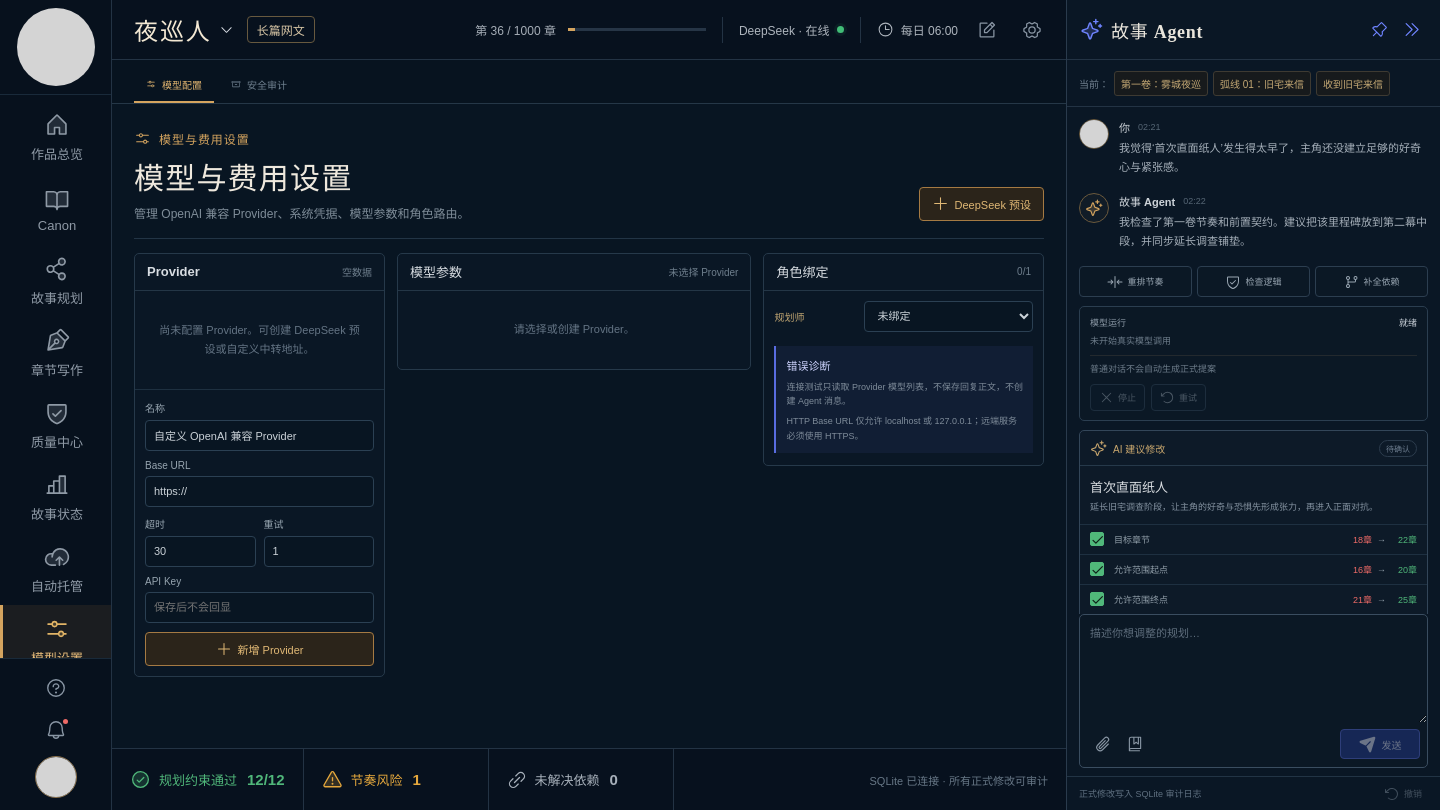
Scenario: Story Agent shell › opens model settings and clears key input after save
Expected: the heading "模型与费用设置" is shown, x1=134 y1=162 x2=352 y2=195
Replace the text in the field named "新增 Provider 名称" with "测试 Provider" at x=260, y=435, box x1=145 y1=420 x2=374 y2=450
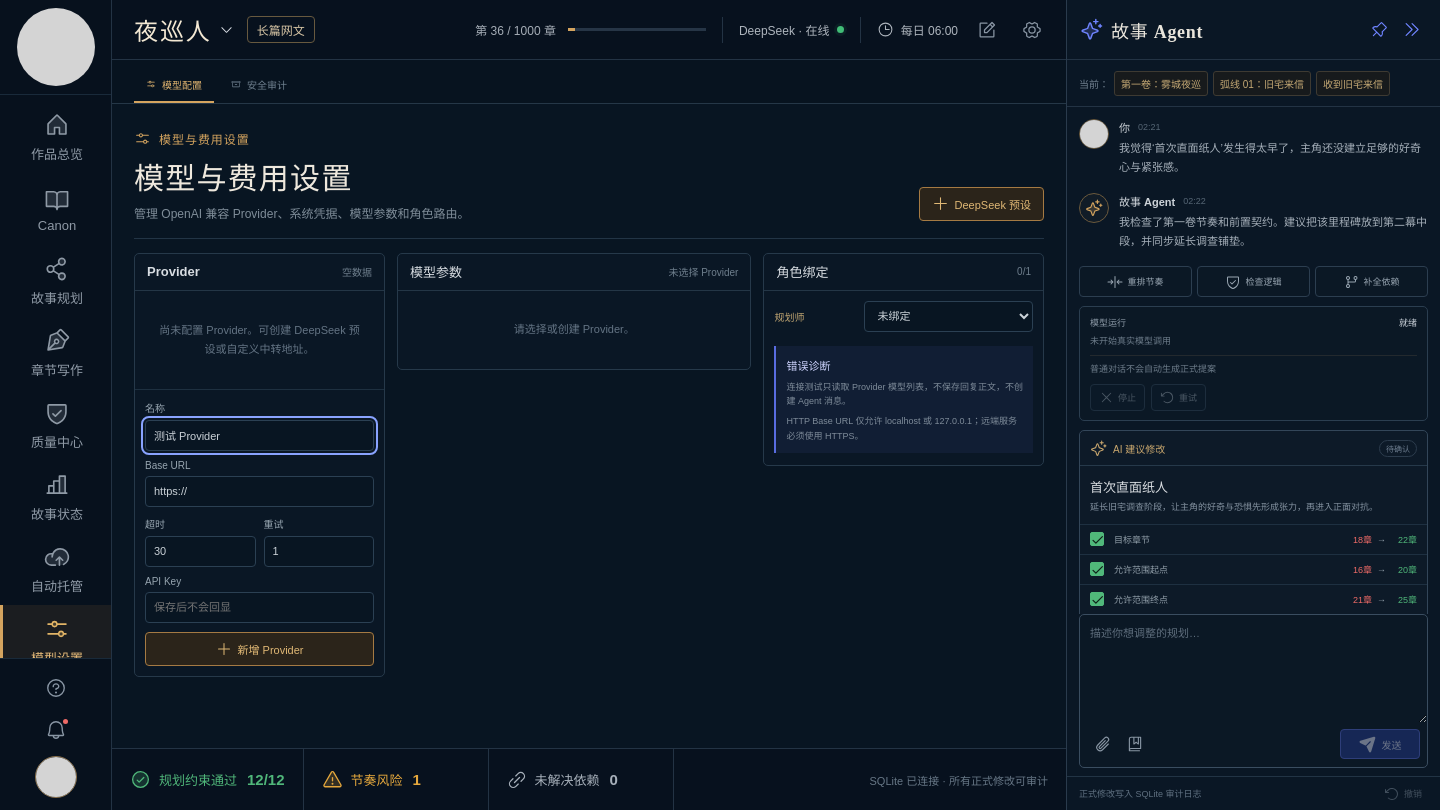
Replace the text in the field named "新增 Provider Base URL" with "https://api.example.test" at x=260, y=491, box x1=145 y1=476 x2=374 y2=506
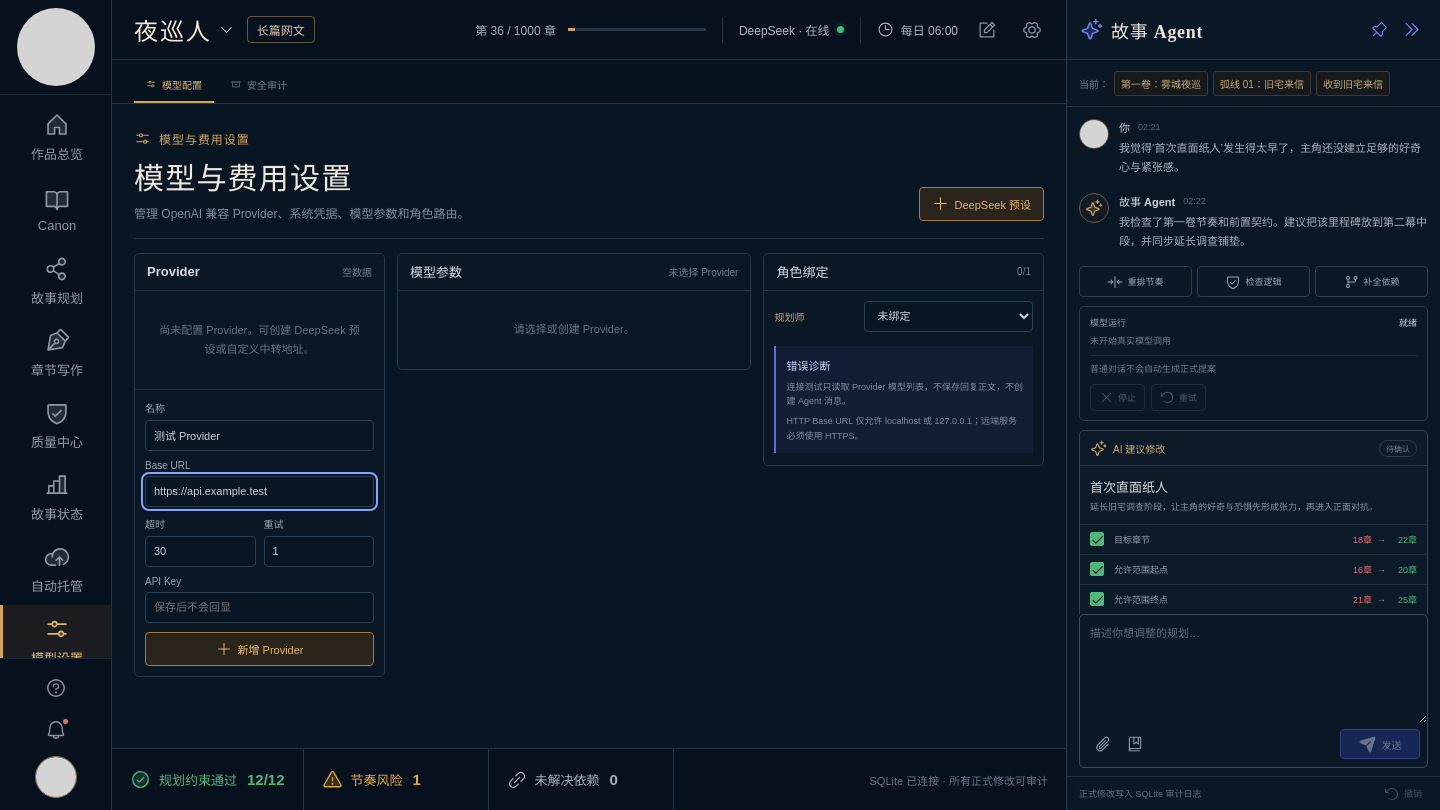
Type "unit-test-should-clear" into the password field named "新增 Provider API Key" at x=260, y=607, box x1=145 y1=592 x2=374 y2=622
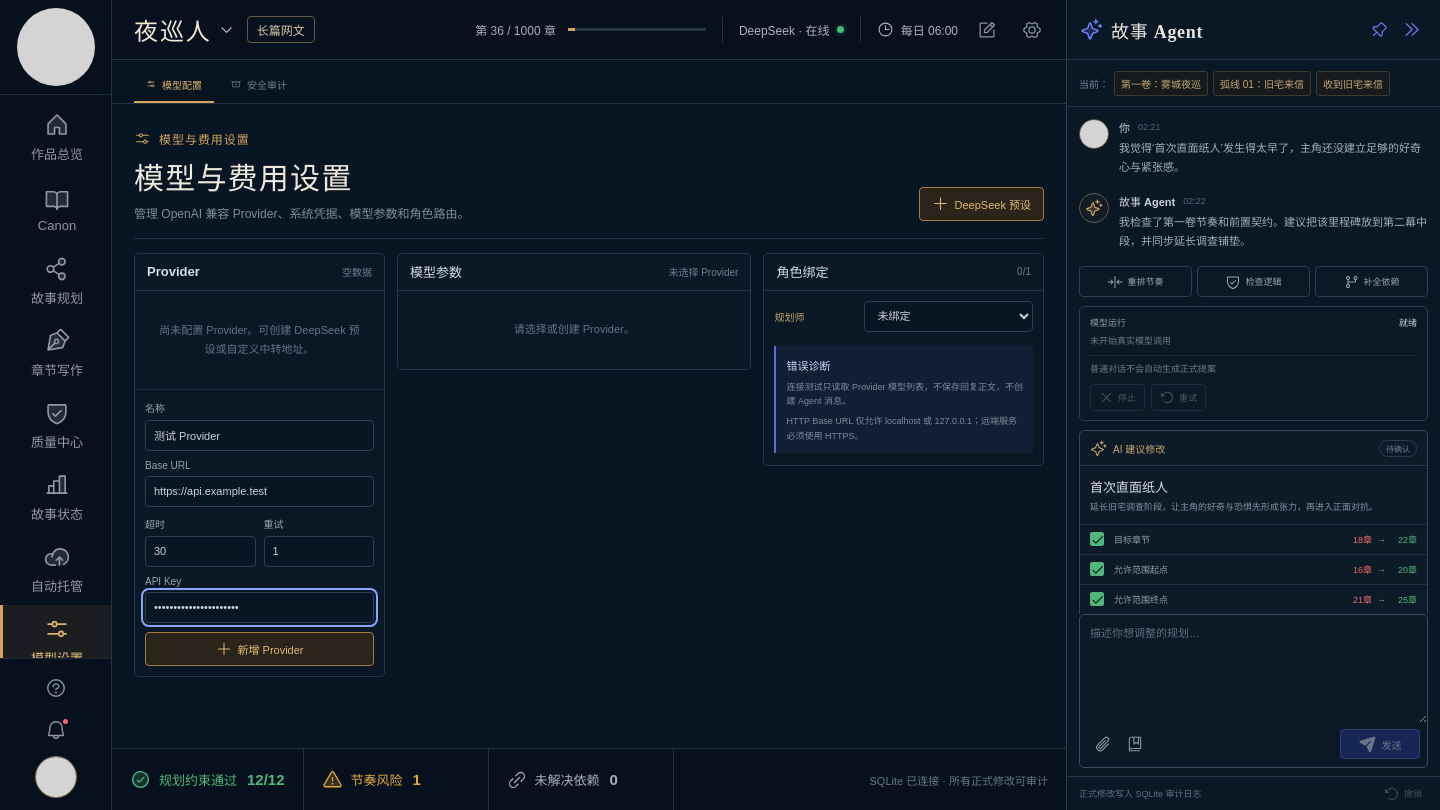
Click the button "新增 Provider" at x=260, y=648, box x1=145 y1=632 x2=374 y2=666
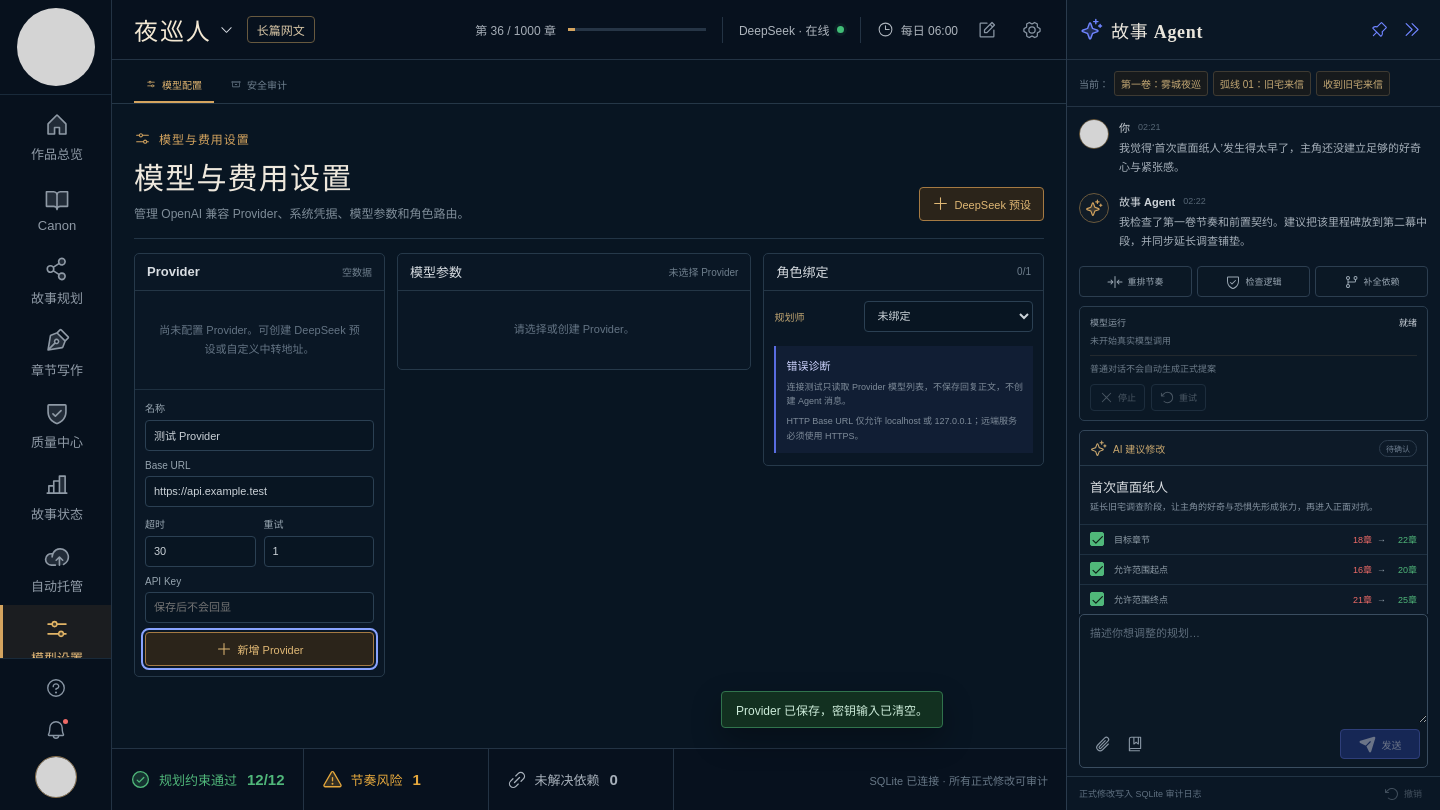
Expected: the element "故事 Agent" is shown, x1=1066 y1=0 x2=1439 y2=809
Result: the text "Provider 已保存，密钥输入已清空。" is shown at x1=721 y1=691 x2=943 y2=728
Result: the password field named "新增 Provider API Key" is empty at x1=145 y1=592 x2=374 y2=622
